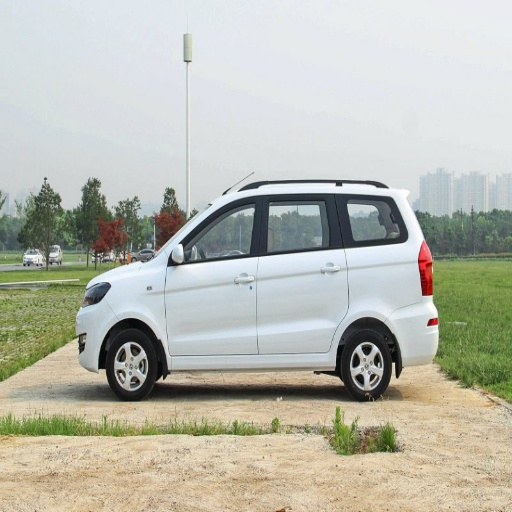back_bumper: (397, 323, 437, 364)
back_left_door: (260, 196, 350, 354)
front_left_door: (165, 196, 262, 356)
